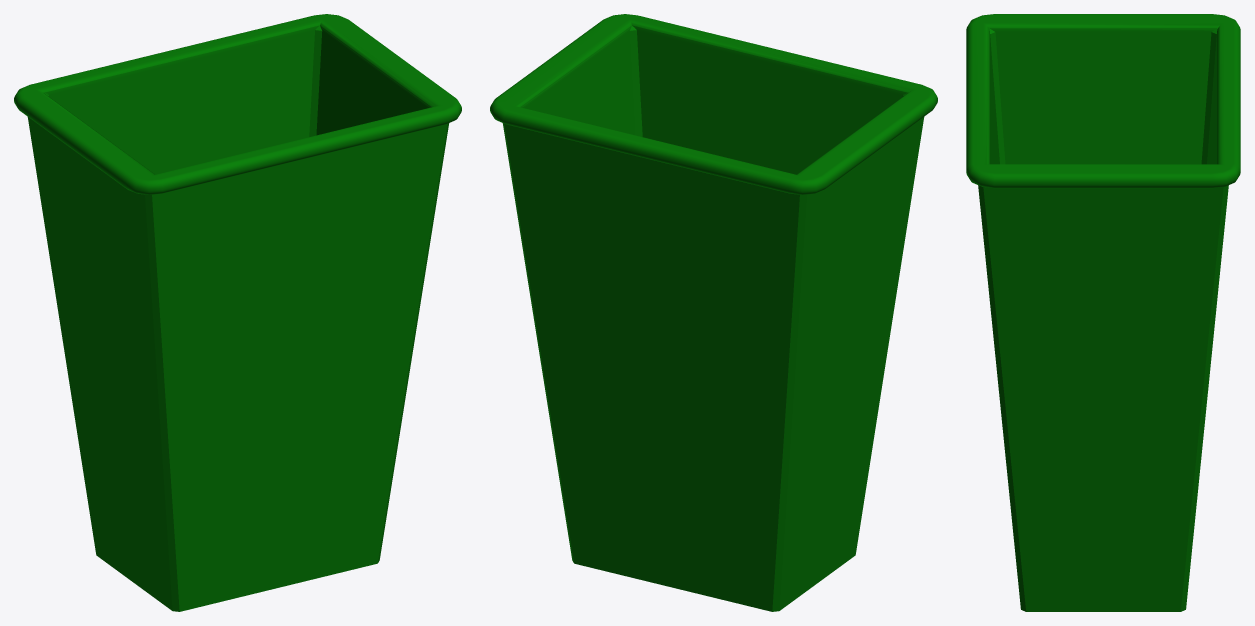
File: IndoorBin_Green.fbx
3 renders of one model, left to right at view 1: azimuth 30°, elevation 25°; view 2: azimuth 150°, elevation 25°; view 3: azimuth 270°, elevation 25°, orthographic.
Parts seen in each view (by area): view 1: pCube2; view 2: pCube2; view 3: pCube2.
Part boxes in pixels (<box>): pCube2: <box>14,14,461,611</box>; pCube2: <box>490,14,937,611</box>; pCube2: <box>966,14,1240,611</box>.
Bounding box in the file's own units: 1.09 × 1.44 × 0.7675.
